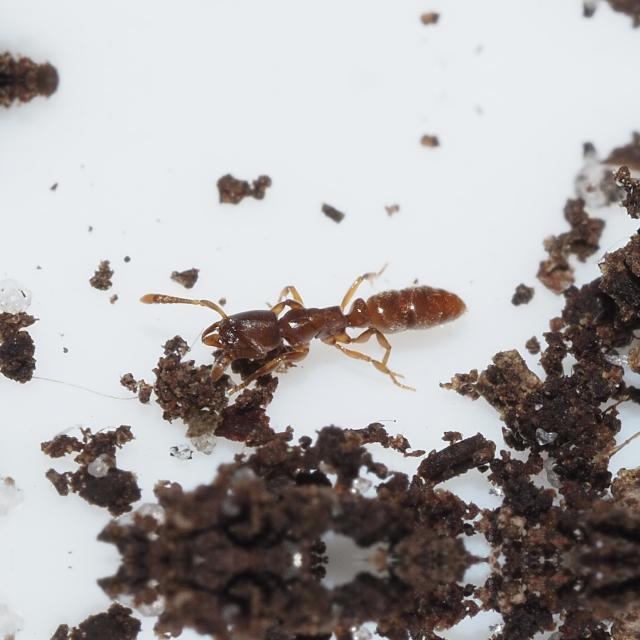Ponera: (181, 262, 483, 376)
